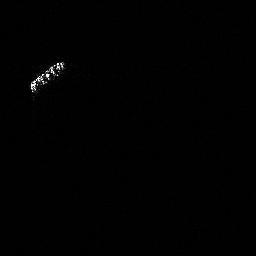ship: (30, 61, 66, 95)
